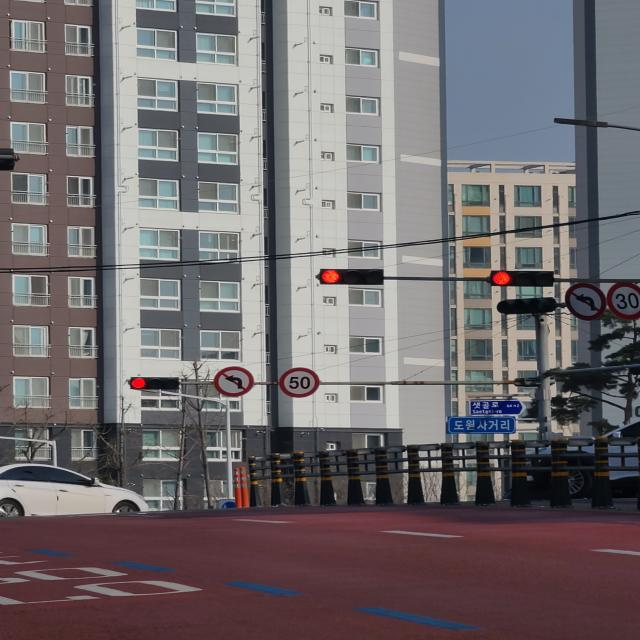Green Light: (534, 298, 547, 312)
Red Light: (492, 270, 511, 285), (321, 269, 339, 284), (131, 378, 147, 389)
